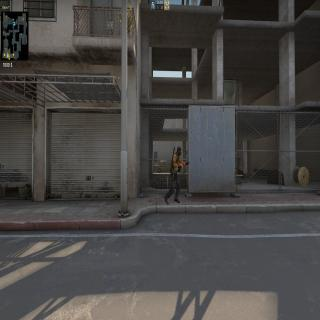T-Head: (177, 146, 182, 157)
